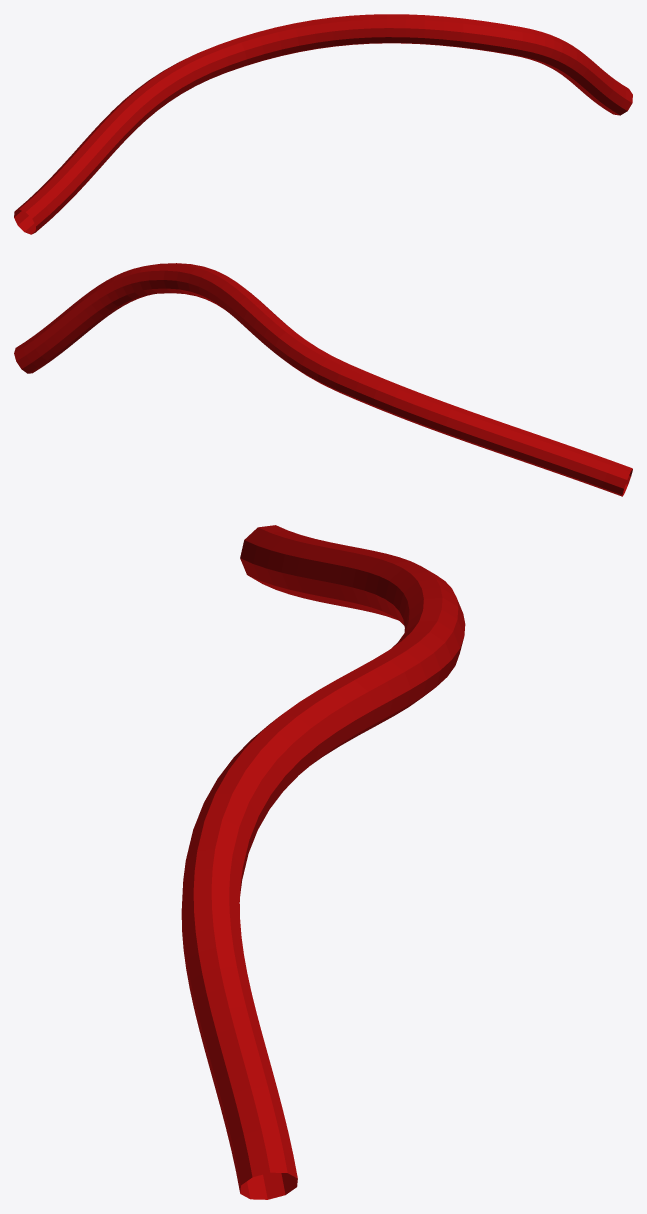
File: right_motor_wire_plus.dae
3 renders of one model, top to bottom at view 1: azimuth 30°, elevation 25°; view 2: azimuth 150°, elevation 25°; view 3: azimuth 270°, elevation 25°, orthographic. The views are drawn at different scales.
Visible parts, largest first — view 1: right_motor_wire_plus; view 2: right_motor_wire_plus; view 3: right_motor_wire_plus.
Part boxes in pixels (x1,y1,x2,y2): right_motor_wire_plus: (14,14,632,234); right_motor_wire_plus: (14,263,632,496); right_motor_wire_plus: (181,525,465,1199).
Bounding box in the file's own units: 0.0256 × 0.00515 × 0.00577.
